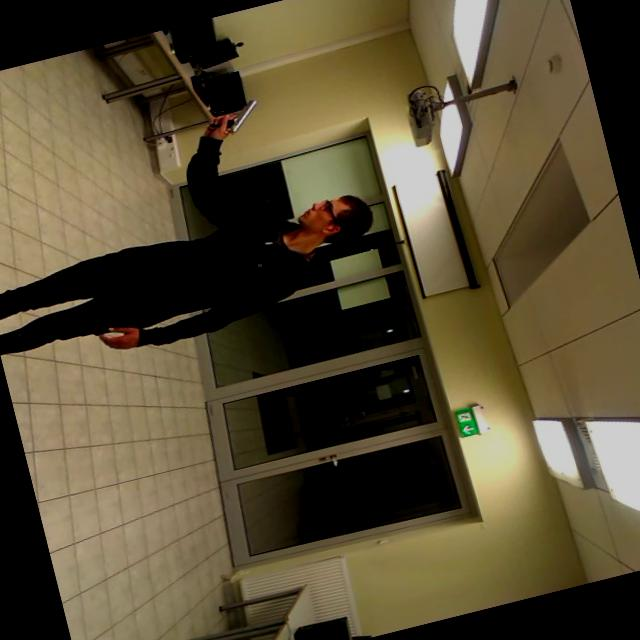handgun: (198, 86, 276, 146)
